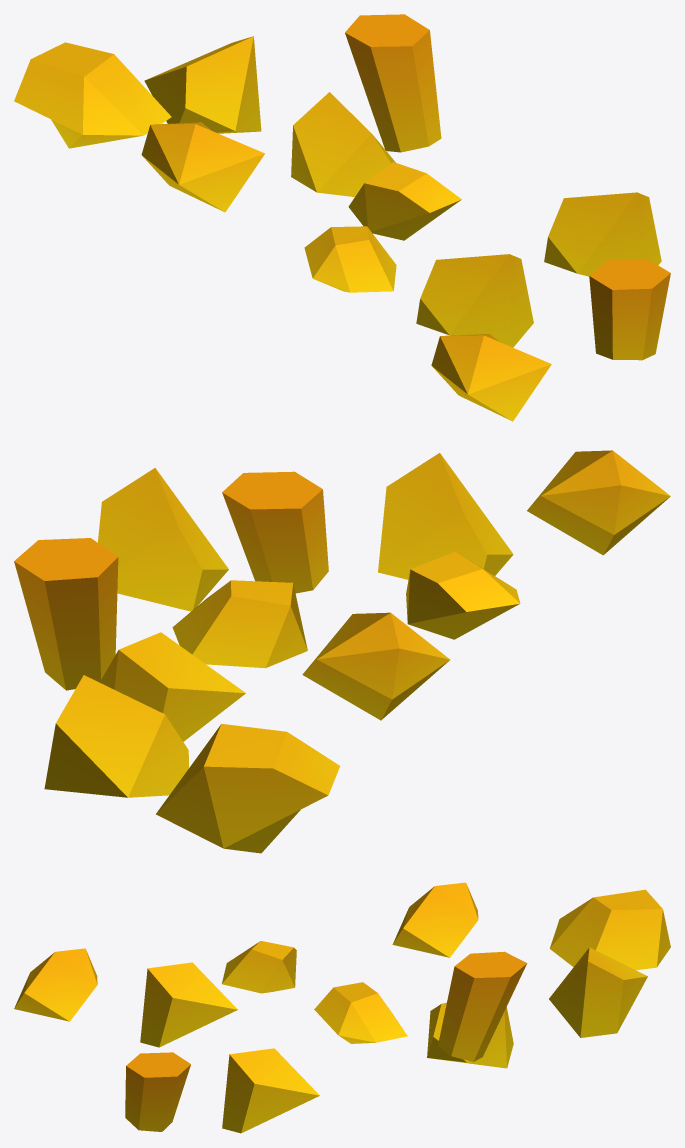
The model's file is M_Star_area_2.fbx.
3 renders of one model, top to bottom at view 1: azimuth 30°, elevation 25°; view 2: azimuth 150°, elevation 25°; view 3: azimuth 270°, elevation 25°, orthographic. The views are drawn at different scales.
Parts seen in each view (by area): view 1: M_Star_area_2; view 2: M_Star_area_2; view 3: M_Star_area_2.
Boxes of the visible parts, x1,y1,x2,y2 form: M_Star_area_2: (14, 14, 670, 421); M_Star_area_2: (14, 450, 670, 853); M_Star_area_2: (14, 882, 670, 1133).
Size of the model in its own units: 116 by 48.62 by 196.
